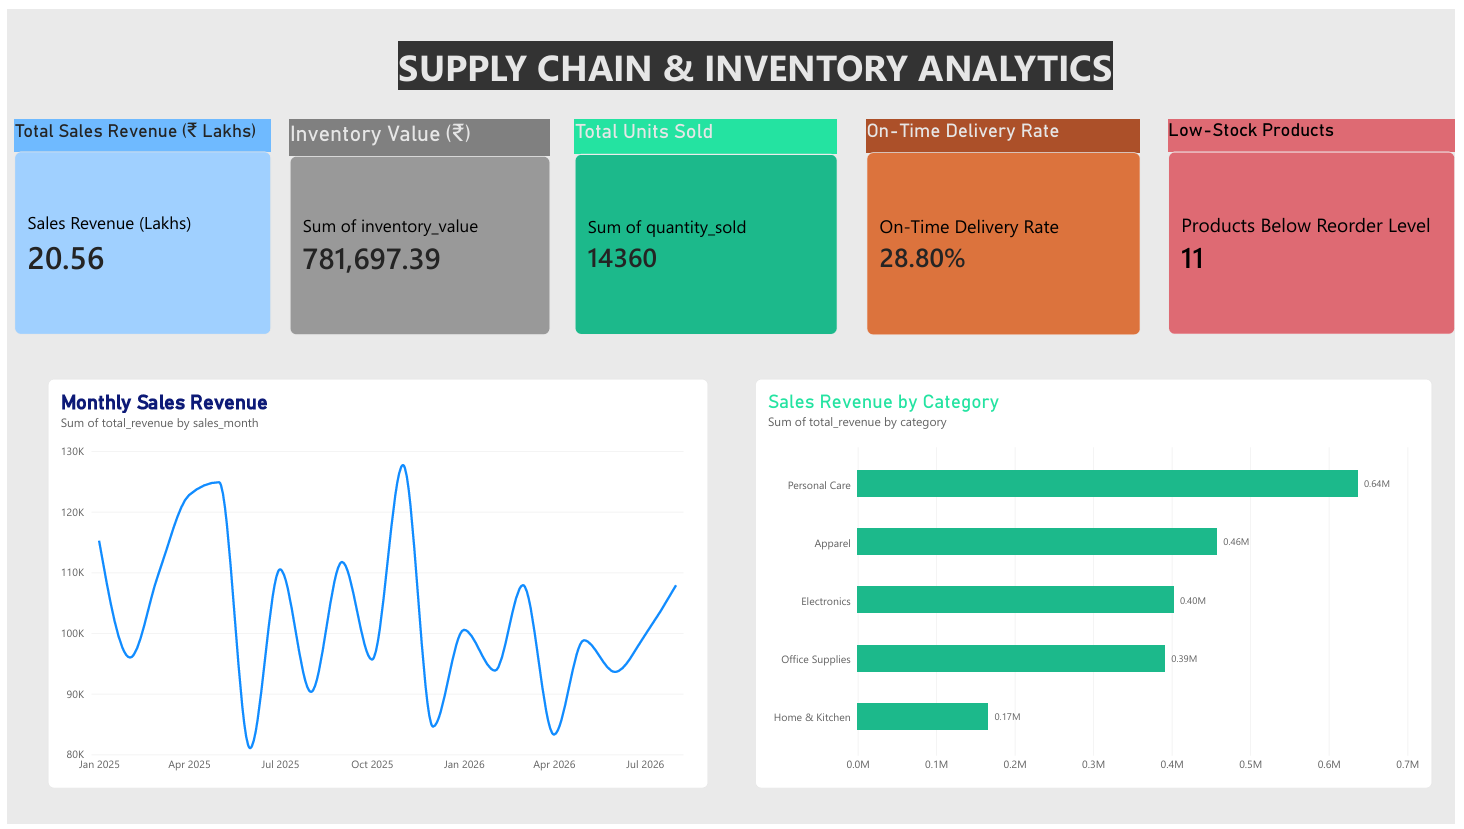

The dashboard page shown, as its layout file describes it:
{"tool":"powerbi","page":{"name":"Sales Overview","canvas":[1920,1080],"ordinal":0},"visuals":[{"type":"cardVisual","title":"Total Sales Revenue (₹ Lakhs)","fields":{"Data":["category_inventory.Sales Revenue (Lakhs)"]},"box":[10.3,146.1,339.6,286.1],"z":0},{"type":"cardVisual","title":"Inventory Value (₹)","fields":{"Data":["Sum(inventory_analysis.inventory_value)"]},"box":[374.6,146.1,345.8,286.1],"z":2},{"type":"cardVisual","title":"Low-Stock Products","fields":{"Data":["category_inventory.Products Below Reorder Level"]},"box":[1539.6,146.1,380.8,286.1],"z":3},{"type":"cardVisual","title":"Total Units Sold","fields":{"Data":["Sum(sales_analysis.quantity_sold)"]},"box":[753.3,146.1,347.9,286.1],"z":4},{"type":"cardVisual","title":"On-Time Delivery Rate","fields":{"Data":["category_inventory.On-Time Delivery Rate"]},"box":[1140.3,146.1,362.3,286.1],"z":5},{"type":"lineChart","title":"Monthly Sales Revenue","fields":{"Category":["monthly_sales.sales_month"],"Y":["Sum(monthly_sales.total_revenue)"]},"box":[53.5,489.9,876.8,543.4],"z":6},{"type":"clusteredBarChart","title":"Sales Revenue by Category","fields":{"Category":["category_sales.category"],"Y":["Sum(category_sales.total_revenue)"]},"box":[992.1,489.9,897.4,543.4],"z":7},{"type":"textbox","title":"SUPPLY CHAIN & INVENTORY ANALYTICS","box":[518.7,43.2,946.8,63.8],"z":8}]}

Visuals, with their boxes in screenshot pixels (x1, y1, x2, y2), scaled from the page's 1920x1080 canvas onto the 1464x829 screenshot:
"Total Sales Revenue (₹ Lakhs)" cardVisual: 8,112,267,332
"Inventory Value (₹)" cardVisual: 286,112,549,332
"Low-Stock Products" cardVisual: 1174,112,1463,332
"Total Units Sold" cardVisual: 574,112,840,332
"On-Time Delivery Rate" cardVisual: 869,112,1146,332
"Monthly Sales Revenue" lineChart: 41,376,709,793
"Sales Revenue by Category" clusteredBarChart: 756,376,1441,793
"SUPPLY CHAIN & INVENTORY ANALYTICS" textbox: 396,33,1117,82
